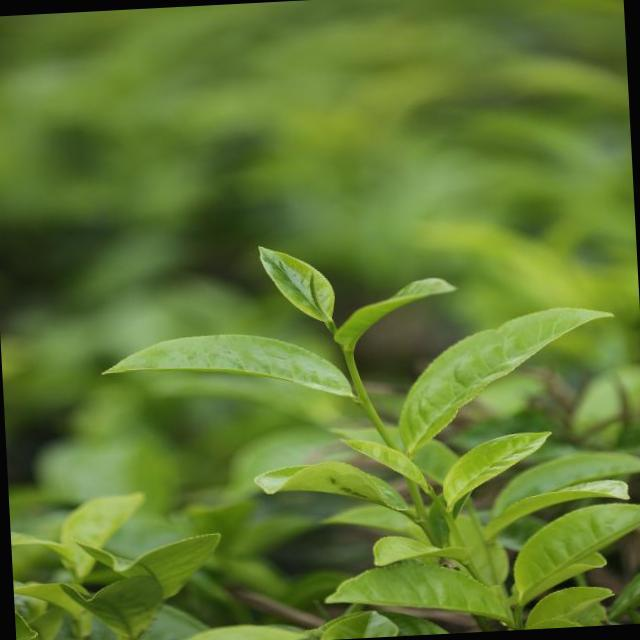Stem: (345, 351, 355, 364)
